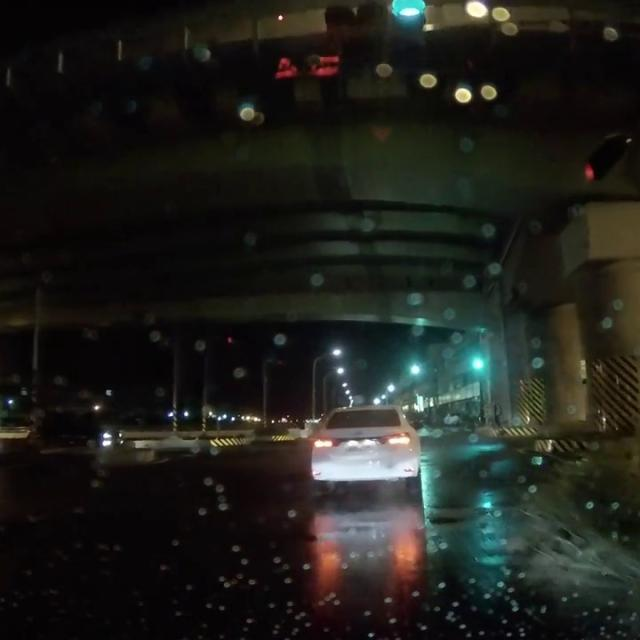Car: (307, 404, 420, 485), (26, 413, 124, 449)
